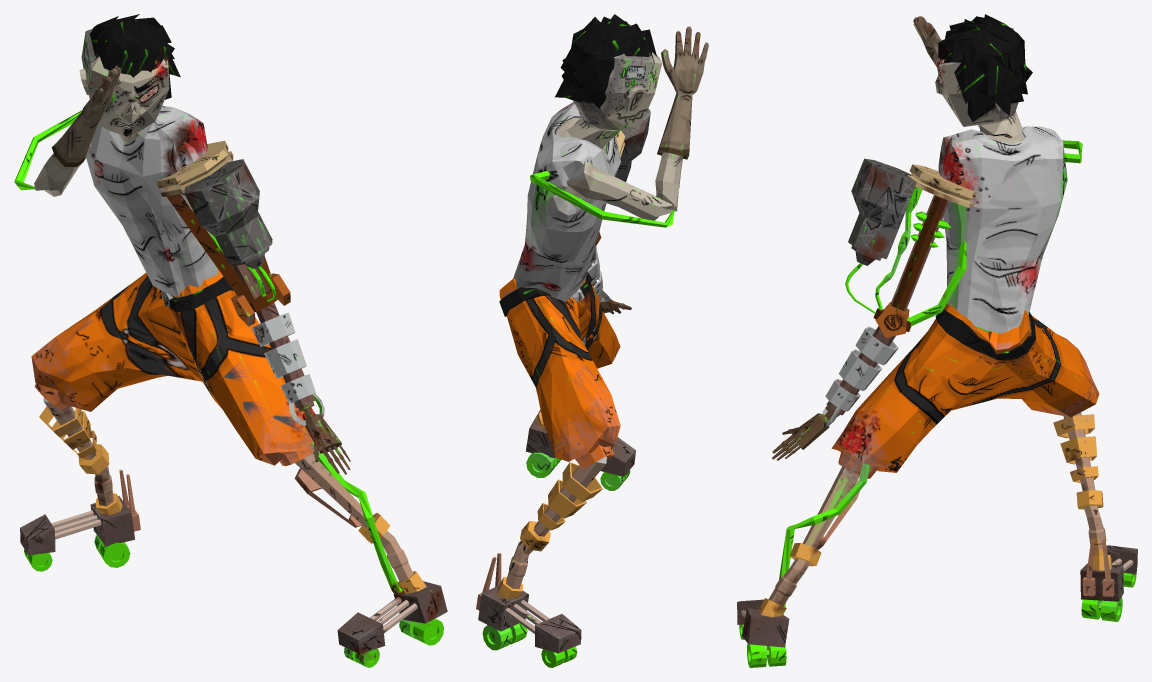
Rendered from CyborgFINALAnimation_000064.obj.
3 renders of one model, left to right at view 1: azimuth 30°, elevation 25°; view 2: azimuth 150°, elevation 25°; view 3: azimuth 270°, elevation 25°, orthographic. The views are drawn at different scales.
Parts seen in each view (by area): view 1: CyborgMesh_Cube.002; view 2: CyborgMesh_Cube.002; view 3: CyborgMesh_Cube.002.
Part boxes in pixels (<box>): CyborgMesh_Cube.002: <box>14,14,447,667</box>; CyborgMesh_Cube.002: <box>476,14,708,667</box>; CyborgMesh_Cube.002: <box>737,14,1137,667</box>.
Bounding box in the file's own units: 4.24 × 8.63 × 5.44.
